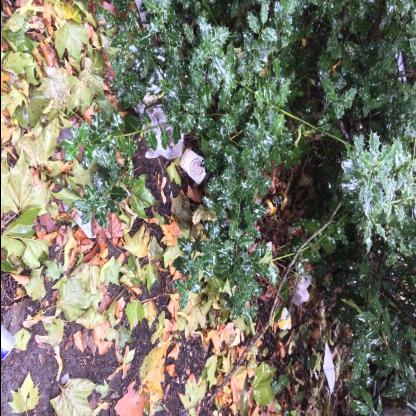karton: (178, 148, 210, 186)
metal: (260, 192, 286, 216)
